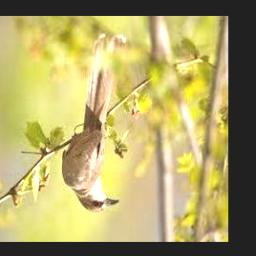Cuckoo: (61, 34, 125, 213)
